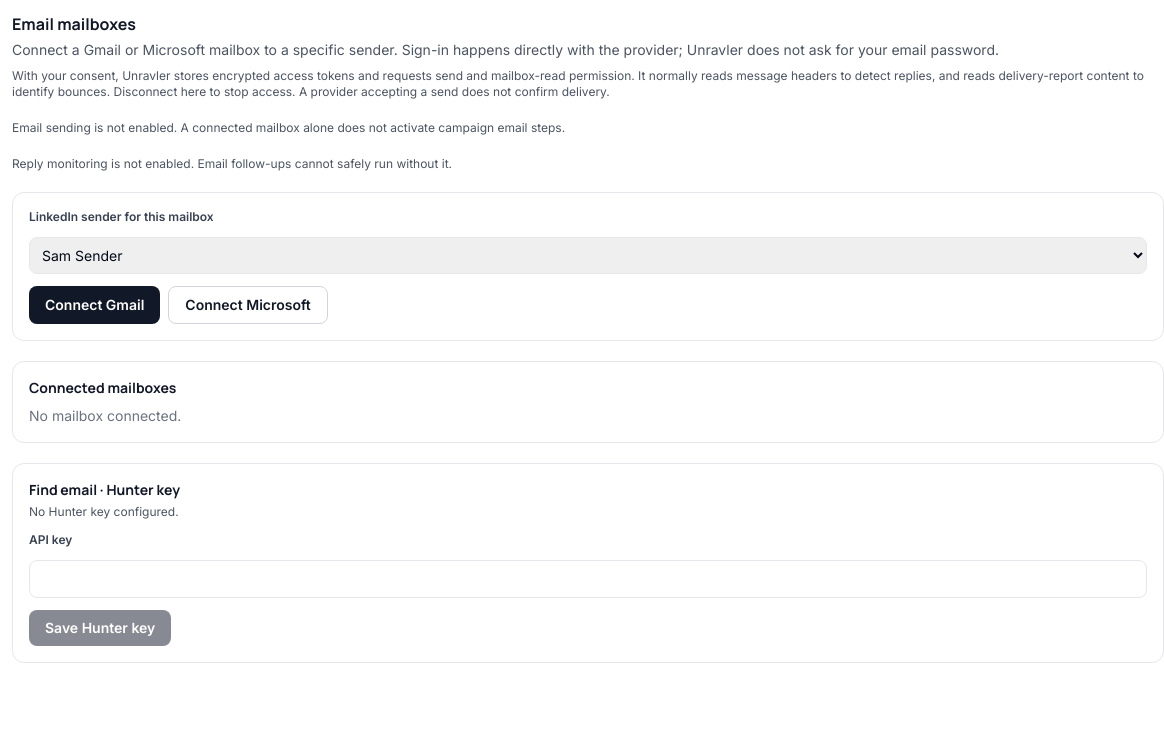
Test: Outreach email connection settings › rejects an untrusted provider authorization link
Click the button "Connect Gmail" at (95, 305), box [29,286,160,324]
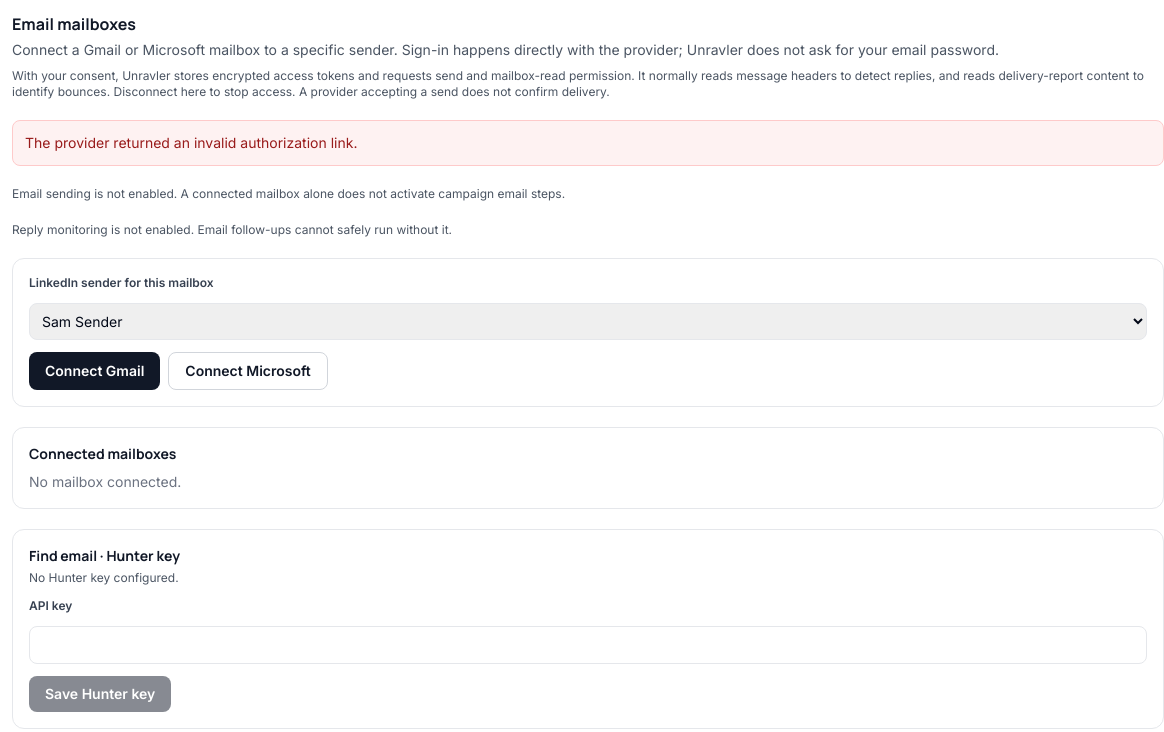
Expected: the text "invalid authorization link" is shown, [25,134,358,151]
